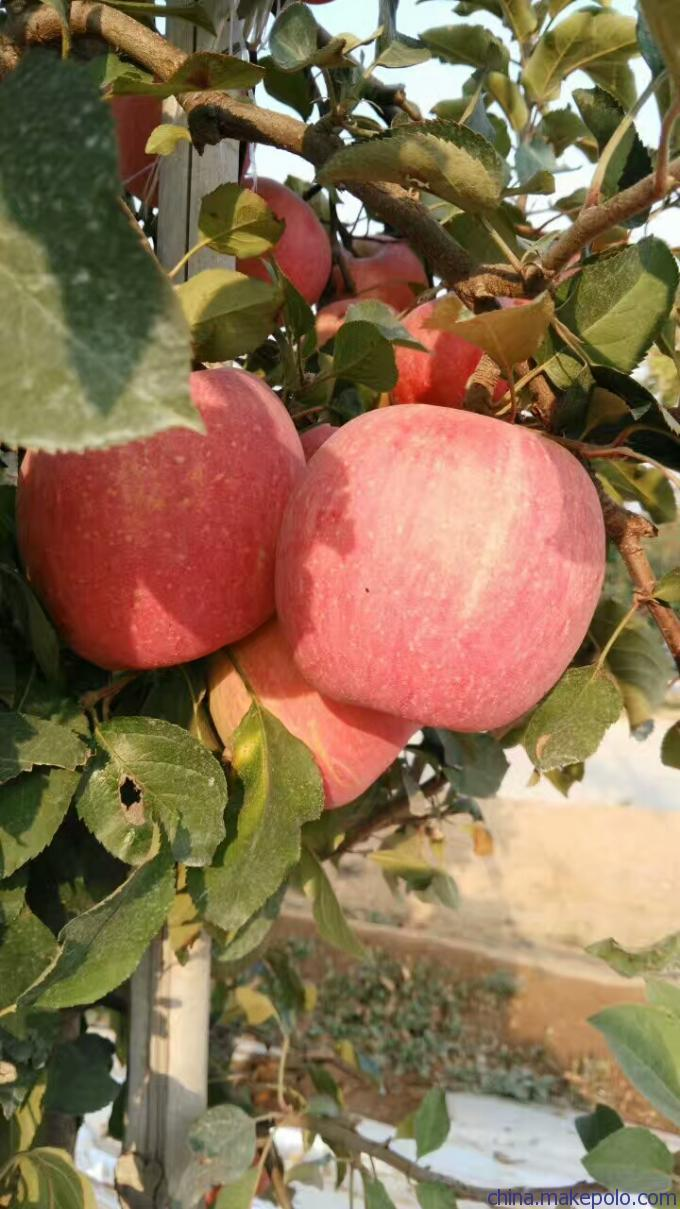apple: (275, 402, 607, 736), (18, 366, 308, 673), (195, 621, 422, 808)
